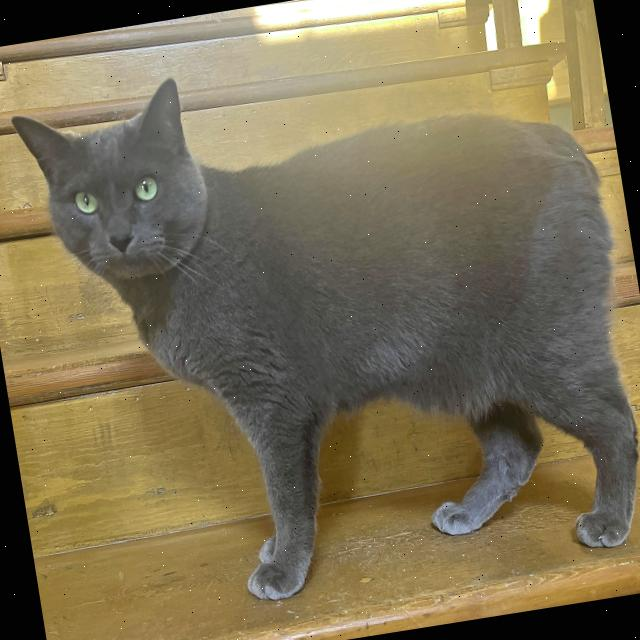russian_blue_cat: (2, 64, 254, 348)
